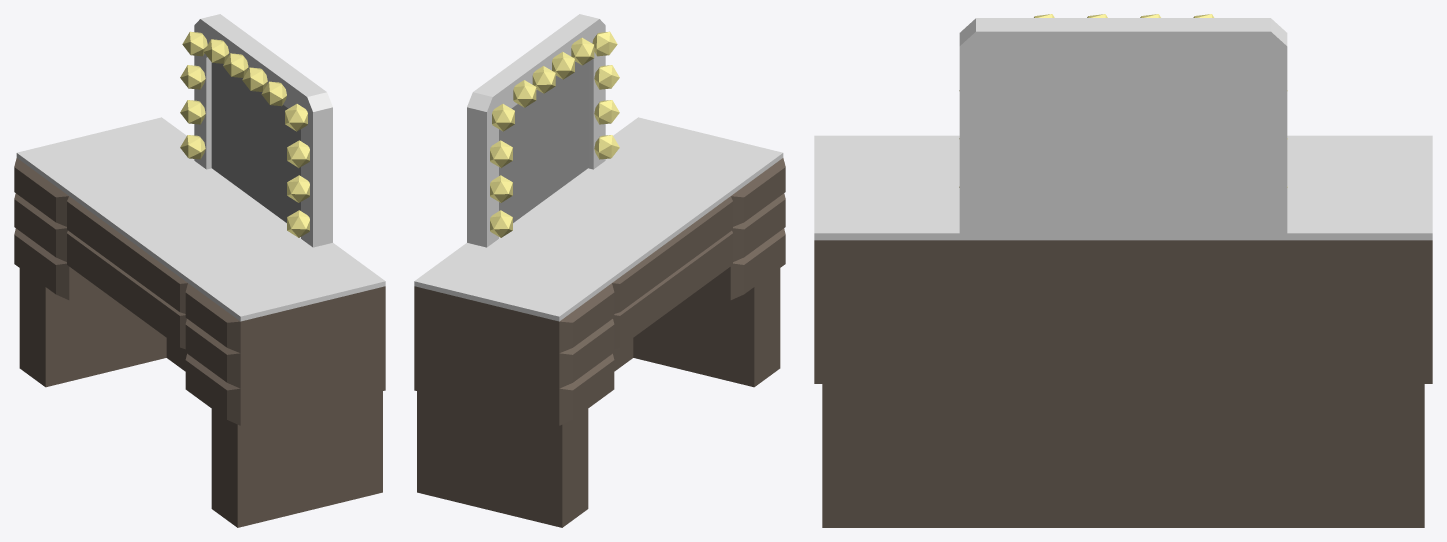
The model's file is desk.fbx.
3 renders of one model, left to right at view 1: azimuth 30°, elevation 25°; view 2: azimuth 150°, elevation 25°; view 3: azimuth 270°, elevation 25°, orthographic. The views are drawn at different scales.
Visible parts, largest first — view 1: pCube1, pPlatonic9, pPlatonic10, pPlatonic11, pPlatonic12, pPlatonic1, pPlatonic2, pPlatonic6, pPlatonic3, pPlatonic7, pPlatonic5, pPlatonic8 (+1 smaller); view 2: pCube1, pPlatonic5, pPlatonic8, pPlatonic6, pPlatonic1, pPlatonic2, pPlatonic3, pPlatonic4, pPlatonic7, pPlatonic11, pPlatonic10, pPlatonic9 (+1 smaller); view 3: pCube1.
Boxes of the visible parts, x1,y1,x2,y2 form: pCube1: [14, 14, 385, 527]; pPlatonic9: [287, 140, 309, 167]; pPlatonic10: [287, 175, 309, 202]; pPlatonic11: [287, 210, 309, 237]; pPlatonic12: [285, 104, 307, 131]; pPlatonic1: [180, 135, 205, 159]; pPlatonic2: [180, 100, 205, 124]; pPlatonic6: [223, 53, 248, 77]; pPlatonic3: [180, 65, 205, 89]; pPlatonic7: [242, 67, 267, 91]; pPlatonic5: [204, 39, 229, 63]; pPlatonic8: [261, 81, 286, 106]; pCube1: [414, 14, 785, 527]; pPlatonic5: [513, 80, 536, 107]; pPlatonic8: [571, 37, 594, 65]; pPlatonic6: [532, 66, 555, 93]; pPlatonic1: [490, 210, 512, 237]; pPlatonic2: [490, 175, 512, 202]; pPlatonic3: [490, 140, 512, 167]; pPlatonic4: [492, 104, 514, 131]; pPlatonic7: [552, 52, 574, 79]; pPlatonic11: [594, 135, 619, 159]; pPlatonic10: [594, 100, 619, 124]; pPlatonic9: [594, 65, 619, 89]; pCube1: [814, 18, 1432, 527].
Bounding box in the file's own units: 1.05 × 2.37 × 2.67.
